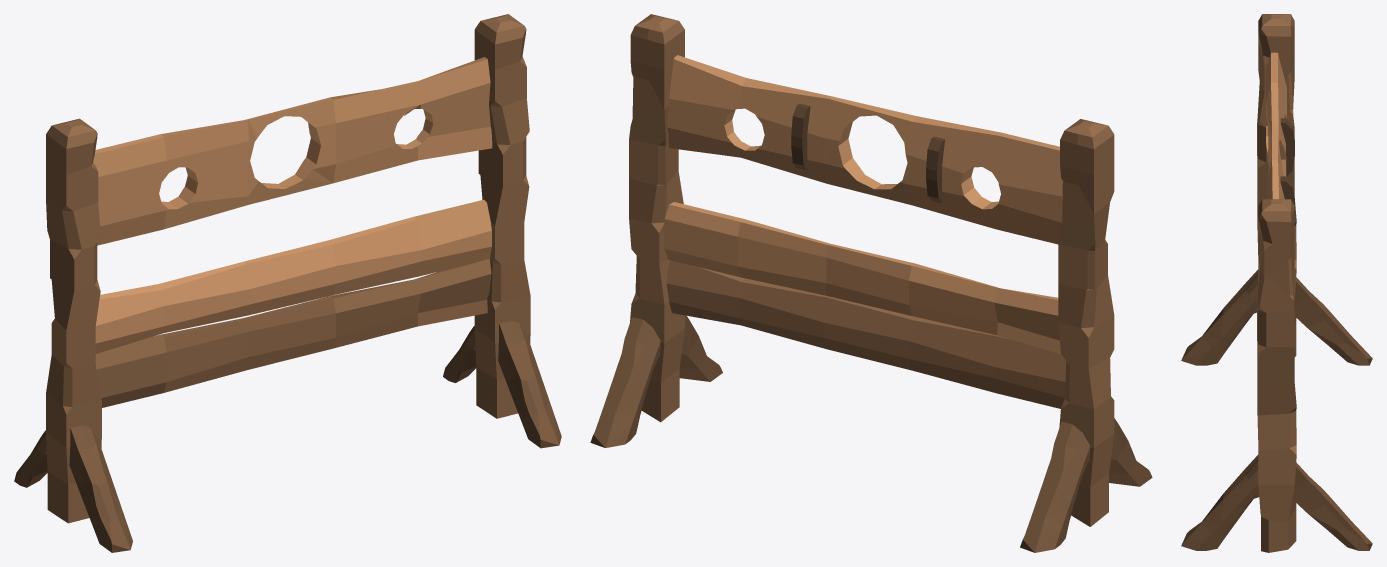
The model's file is hanger_2.fbx.
3 renders of one model, left to right at view 1: azimuth 30°, elevation 25°; view 2: azimuth 150°, elevation 25°; view 3: azimuth 270°, elevation 25°, orthographic. The views are drawn at different scales.
Visible parts, largest first — view 1: Cube.358, Cube.357, Cube.356, Cube.353, Cube.350, Cube.355, Cube.352, Cube.354, Cube.351; view 2: Cube.358, Cube.357, Cube.356, Cube.353, Cube.350, Cube.351, Cube.354, Cube.355, Cube.352, Cube.359, Cube.360; view 3: Cube.350, Cube.353, Cube.352, Cube.355, Cube.358, Cube.351, Cube.354, Cube.360, Cube.359.
Part boxes in pixels (box(x1,y1,x2,y2)): Cube.358: box(93, 57, 492, 245); Cube.357: box(95, 199, 491, 353); Cube.356: box(95, 258, 491, 407); Cube.353: box(46, 118, 101, 523); Cube.350: box(474, 14, 530, 418); Cube.355: box(69, 425, 132, 552); Cube.352: box(498, 321, 561, 448); Cube.354: box(14, 430, 47, 487); Cube.351: box(443, 326, 476, 382); Cube.358: box(667, 55, 1062, 244); Cube.357: box(664, 202, 1060, 354); Cube.356: box(666, 260, 1066, 408); Cube.353: box(1058, 119, 1114, 526); Cube.350: box(629, 14, 684, 422); Cube.351: box(590, 317, 660, 447); Cube.354: box(1020, 422, 1090, 552); Cube.355: box(1109, 418, 1152, 486); Cube.352: box(679, 315, 722, 381); Cube.359: box(791, 103, 810, 170); Cube.360: box(926, 136, 944, 203); Cube.350: box(1257, 199, 1296, 552); Cube.353: box(1257, 14, 1296, 356); Cube.352: box(1181, 455, 1259, 550); Cube.355: box(1181, 269, 1258, 365); Cube.358: box(1266, 52, 1286, 199); Cube.351: box(1292, 462, 1372, 550); Cube.354: box(1294, 277, 1372, 365); Cube.360: box(1280, 118, 1294, 176); Cube.359: box(1280, 176, 1294, 214).
Bounding box in the file's own units: 1173 × 942 × 473.
